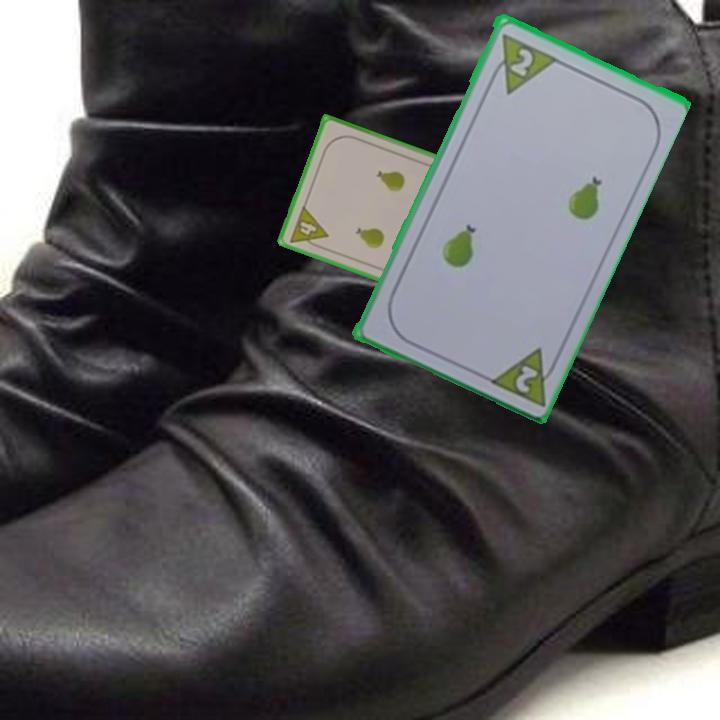2p: (484, 342, 563, 409), (505, 44, 536, 79)
4p: (286, 202, 331, 253)
